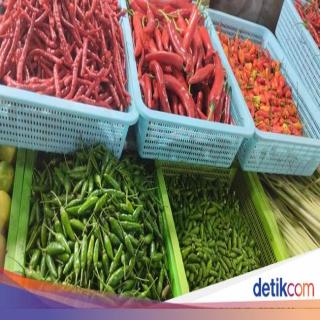Cabai Hijau: (29, 127, 177, 314)
